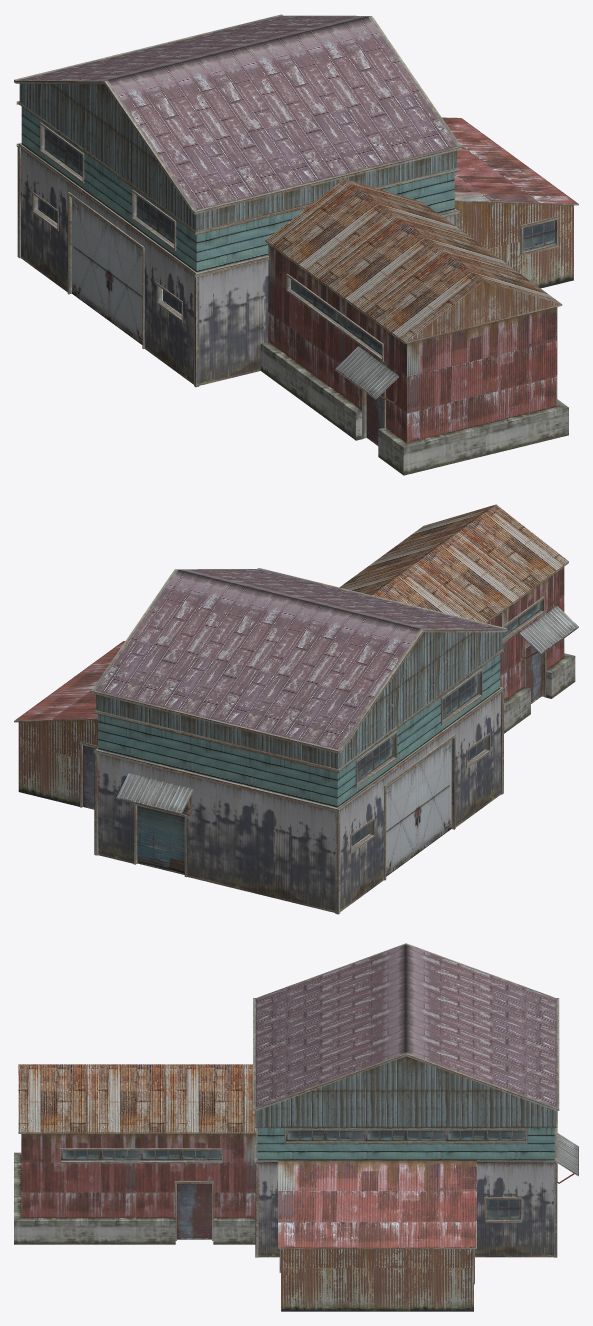
Rendered from Hangar_v3_1.FBX.
3 views of the same model, one above another, from view 1: azimuth 30°, elevation 25°; view 2: azimuth 150°, elevation 25°; view 3: azimuth 270°, elevation 25° (orthographic). The views are drawn at different scales.
Parts seen in each view (by area): view 1: Hangar_v3_basic, Hangar_v3_outbuilding_1, Hangar_v3_outbuilding_2, Hangar_v3_basic_door1, Hangar_v3_outbuilding_10_door1; view 2: Hangar_v3_basic, Hangar_v3_outbuilding_1, Hangar_v3_outbuilding_2, Hangar_v3_basic_door1, Hangar_v3_basic_door2, Hangar_v3_outbuilding_2_door1, Hangar_v3_outbuilding_10_door1; view 3: Hangar_v3_basic, Hangar_v3_outbuilding_1, Hangar_v3_outbuilding_2, Hangar_v3_outbuilding_1_door2.
Boxes of the visible parts, <box> form: Hangar_v3_basic: <box>14,14,462,387</box>; Hangar_v3_outbuilding_1: <box>260,179,568,475</box>; Hangar_v3_outbuilding_2: <box>442,117,578,288</box>; Hangar_v3_basic_door1: <box>72,198,142,344</box>; Hangar_v3_outbuilding_10_door1: <box>366,392,383,445</box>; Hangar_v3_basic: <box>90,568,507,914</box>; Hangar_v3_outbuilding_1: <box>339,504,578,733</box>; Hangar_v3_outbuilding_2: <box>14,641,125,807</box>; Hangar_v3_basic_door1: <box>386,740,451,876</box>; Hangar_v3_basic_door2: <box>137,805,184,874</box>; Hangar_v3_outbuilding_2_door1: <box>83,745,96,809</box>; Hangar_v3_outbuilding_10_door1: <box>526,645,541,703</box>; Hangar_v3_basic: <box>253,943,578,1257</box>; Hangar_v3_outbuilding_1: <box>14,1064,256,1244</box>; Hangar_v3_outbuilding_2: <box>278,1160,476,1311</box>; Hangar_v3_outbuilding_1_door2: <box>177,1183,211,1239</box>.
Size of the model in its own units: 16.17 by 9.37 by 23.4.
